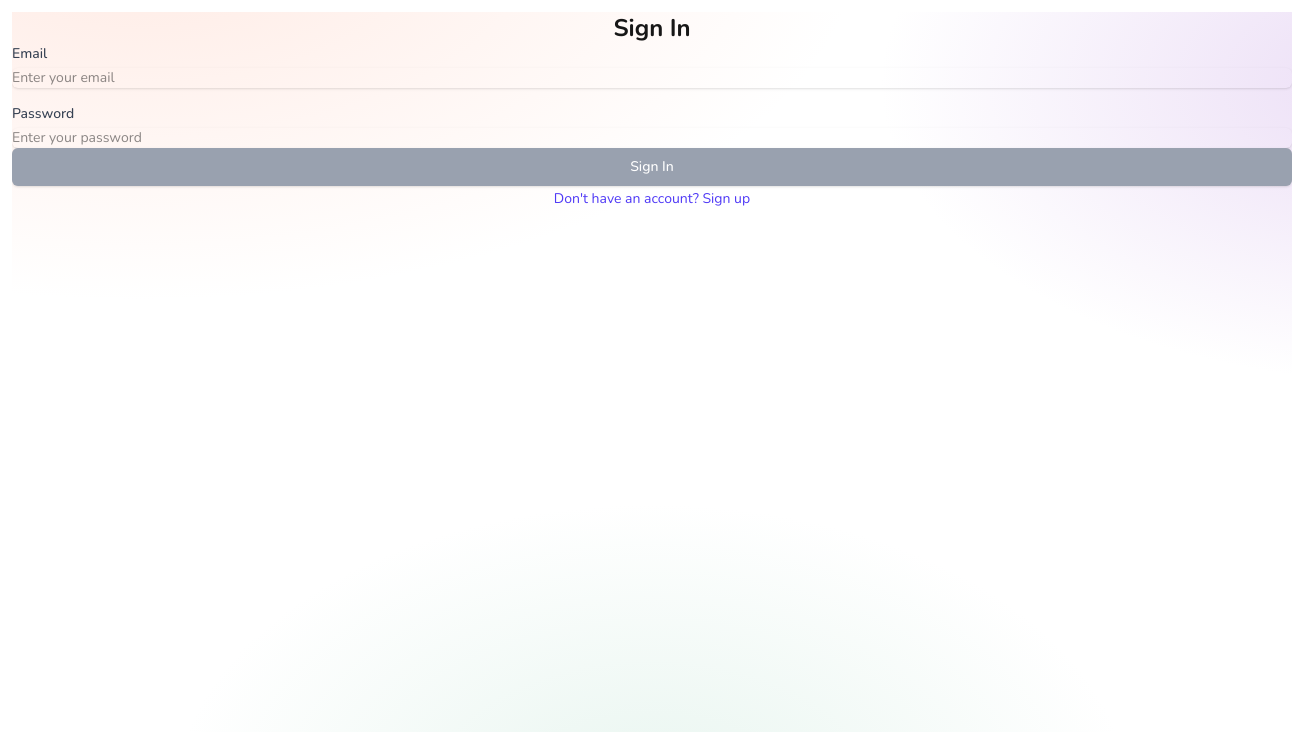
Test: AuthForm Compound Component › Initial Render › should render sign up form when toggled
Click the button with test id "toggle-button".
click(652, 199)  # box [12,189,1292,209]
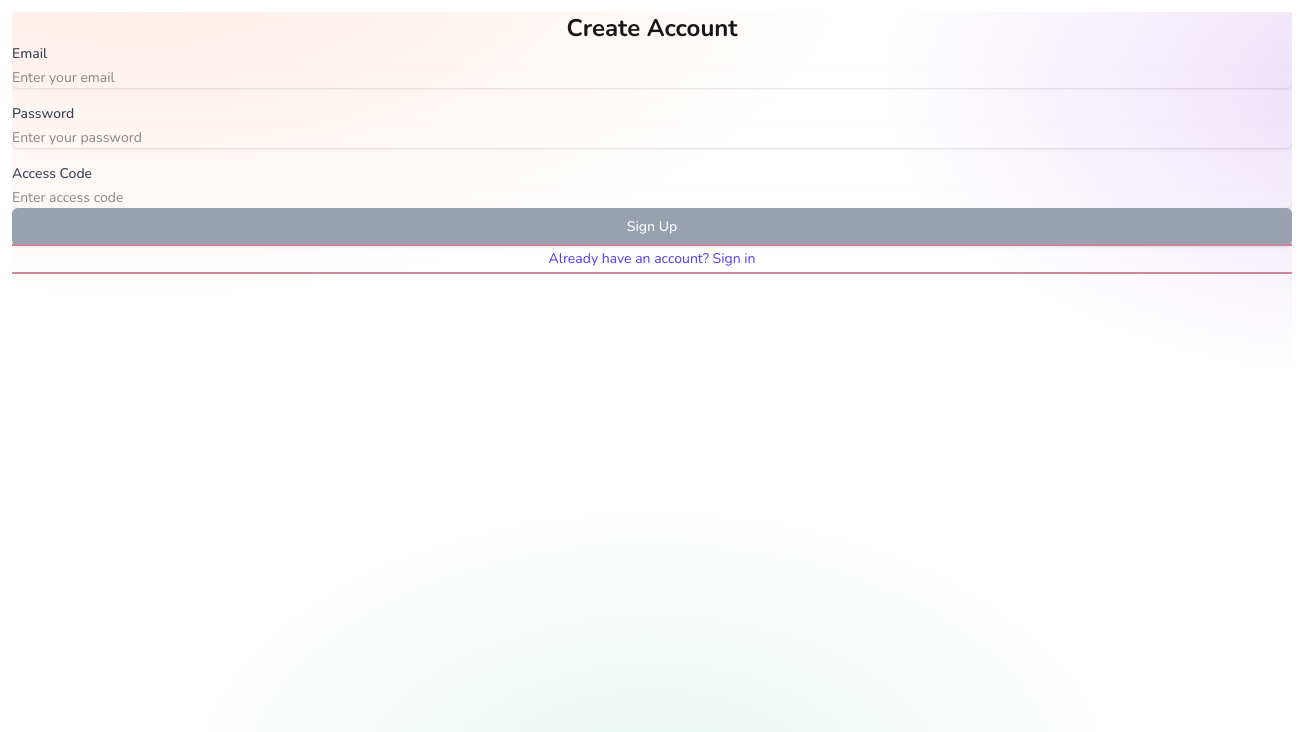
Result: the heading "Create Account" is shown at [566,12,738,44]
Result: the button "Sign Up" is shown at [12,208,1292,246]
